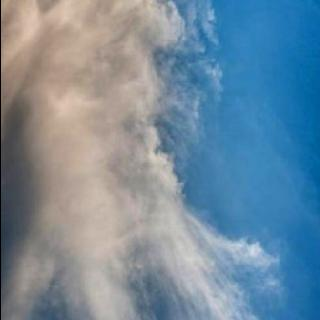Altostratus: (1, 0, 284, 320)
